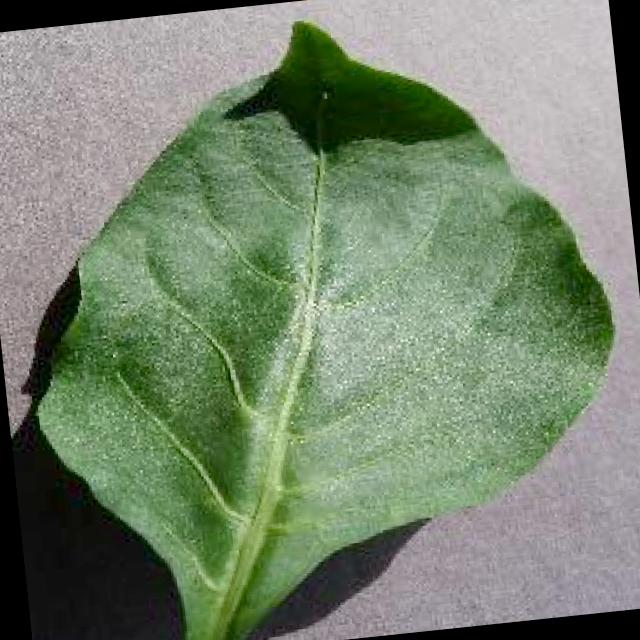Leaf: (56, 62, 606, 566)
